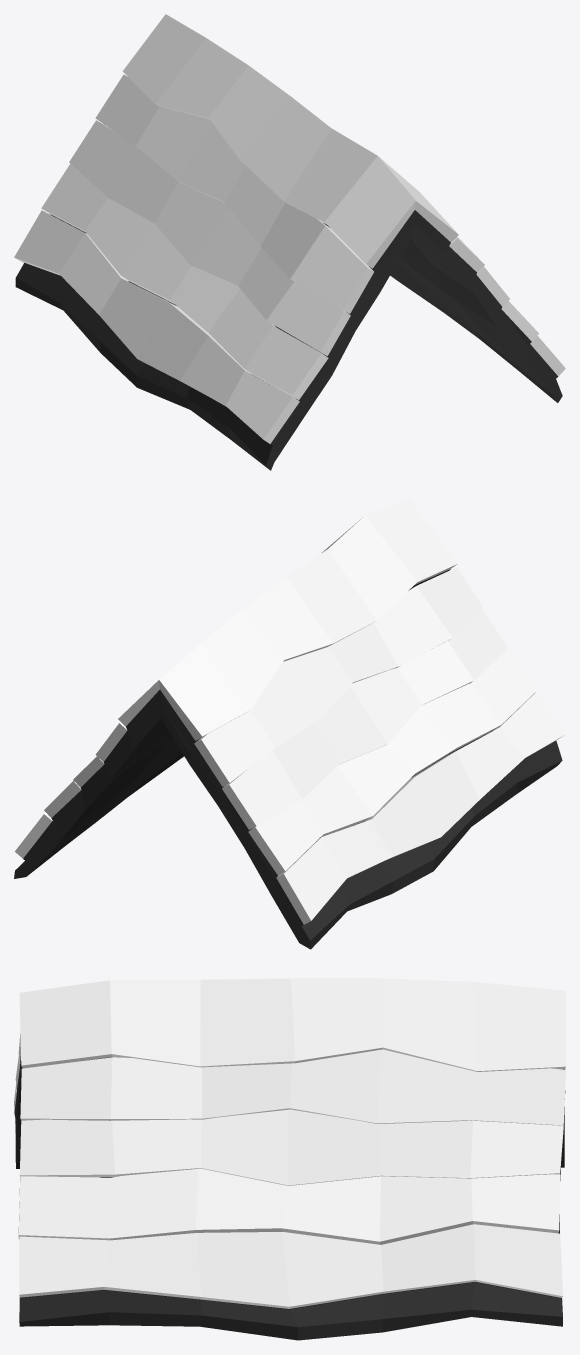
The model's file is Roof.fbx.
3 views of the same model, one above another, from view 1: azimuth 30°, elevation 25°; view 2: azimuth 150°, elevation 25°; view 3: azimuth 270°, elevation 25° (orthographic). The views are drawn at different scales.
Parts seen in each view (by area): view 1: Roof; view 2: Roof; view 3: Roof.
Boxes of the visible parts, x1,y1,x2,y2 form: Roof: (14,14,565,470); Roof: (14,499,565,949); Roof: (14,978,565,1340).
Bounding box in the file's own units: 910 × 713 × 1275.
1 material, 1 textured.
